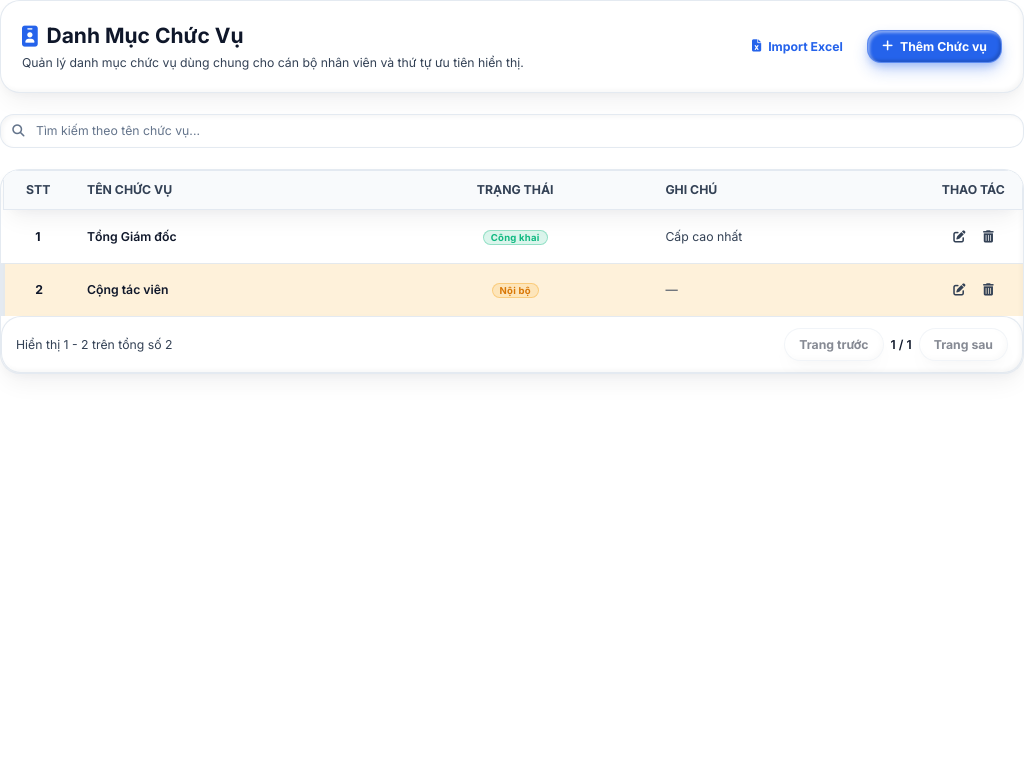
Test: PositionsPage (Issue #20) › creates a position and sends trimmed values, leaving STT empty for auto-assign
Click the button "Thêm Chức vụ" at (935, 47), box [867,30,1002,63]
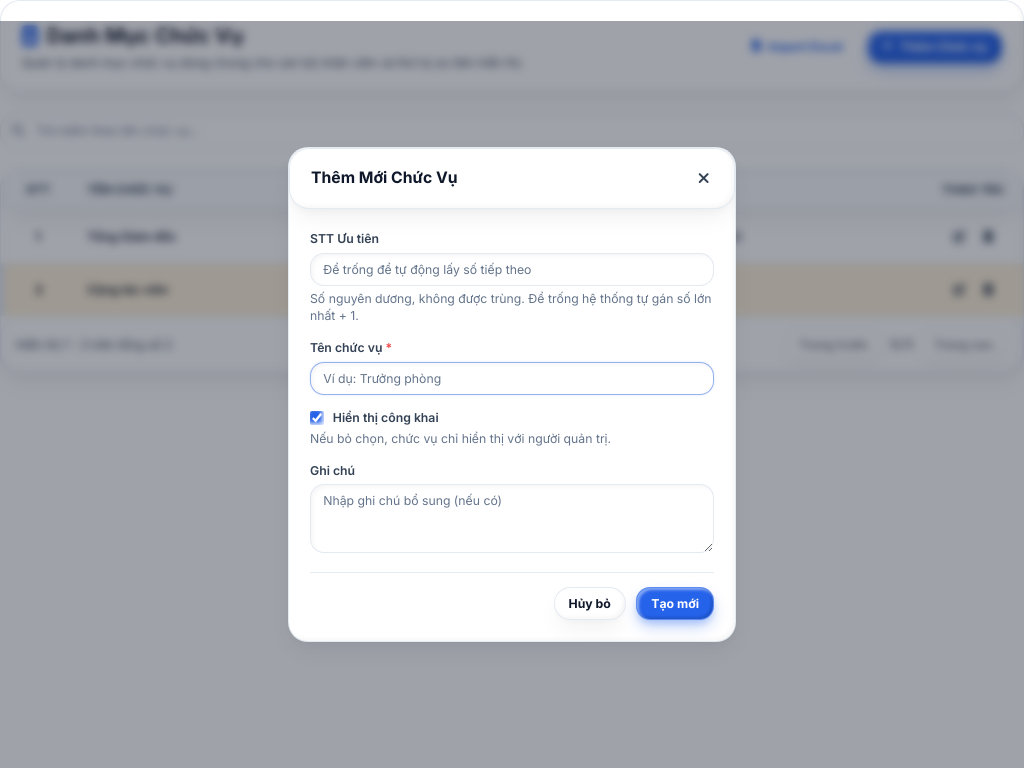
Type "  Phó phòng  " into the field labelled "Tên chức vụ *" at (512, 378), box [310,362,714,395]
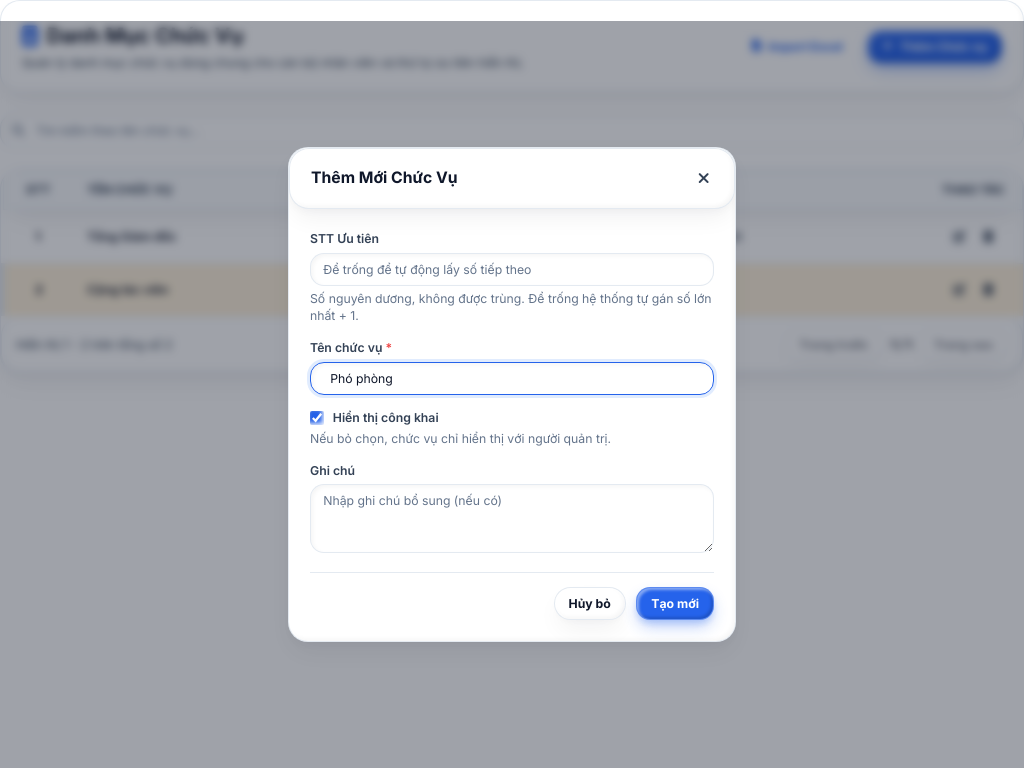
Type " ghi chú " into the text box labelled "Ghi chú" at (512, 519), box [310,484,714,553]
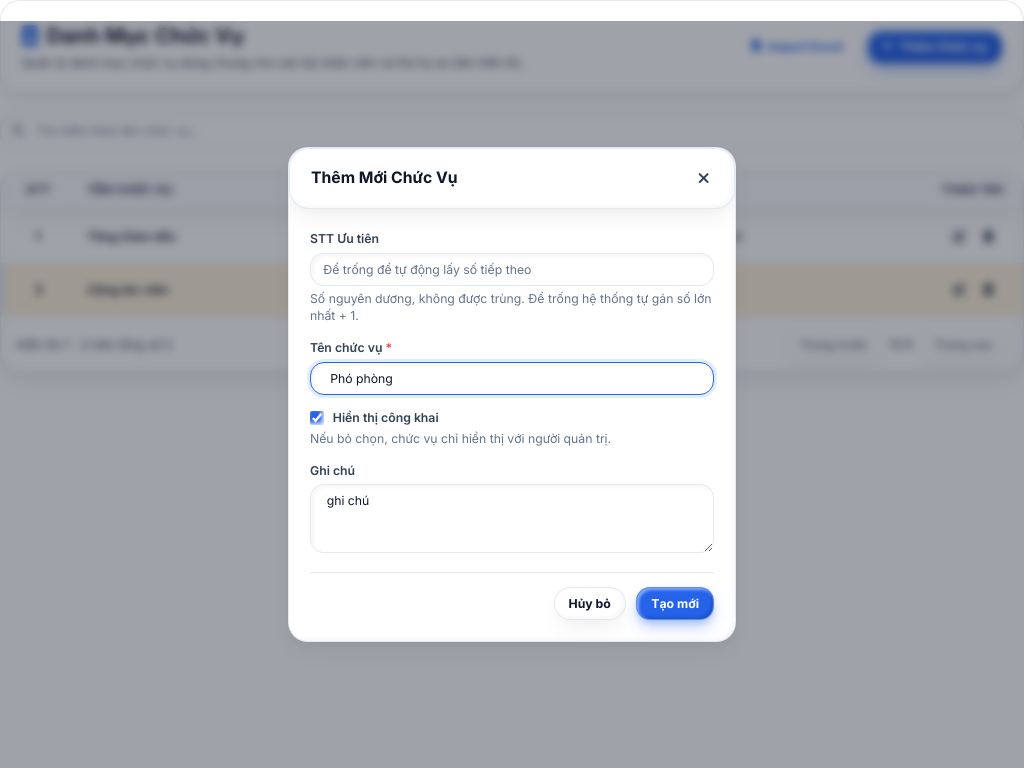
Click the button "Tạo mới" at (675, 604), box [636,587,714,620]
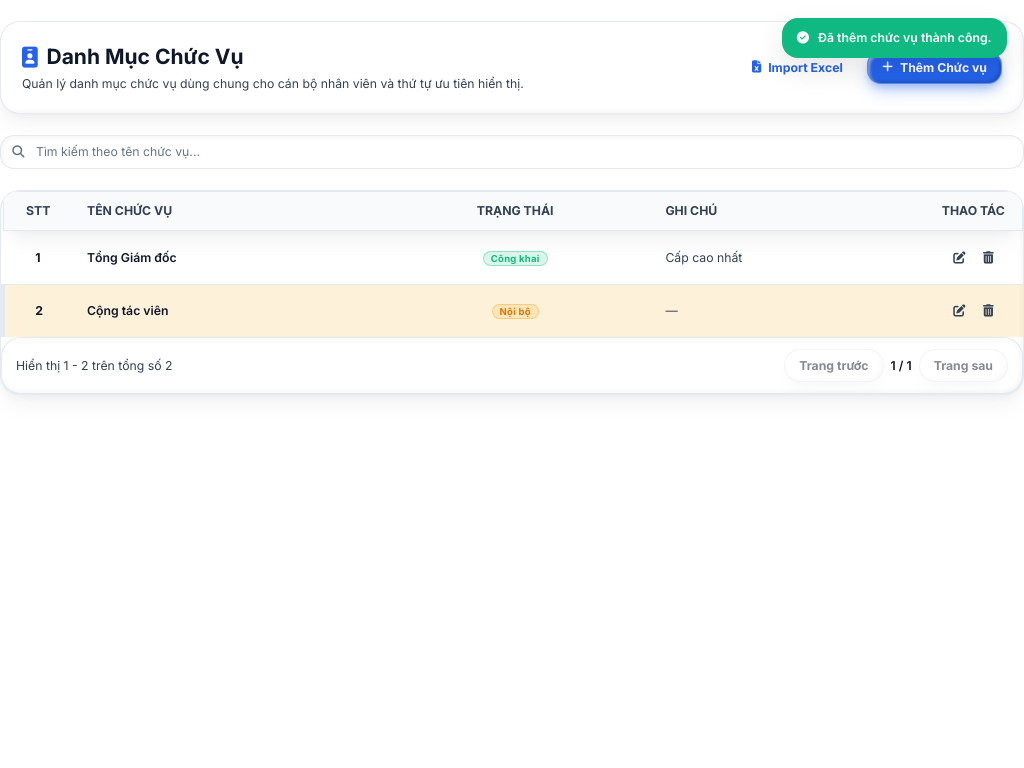
Result: the text "Đã thêm chức vụ thành công." is shown at [782,18,1006,58]
Result: the dialog is gone
